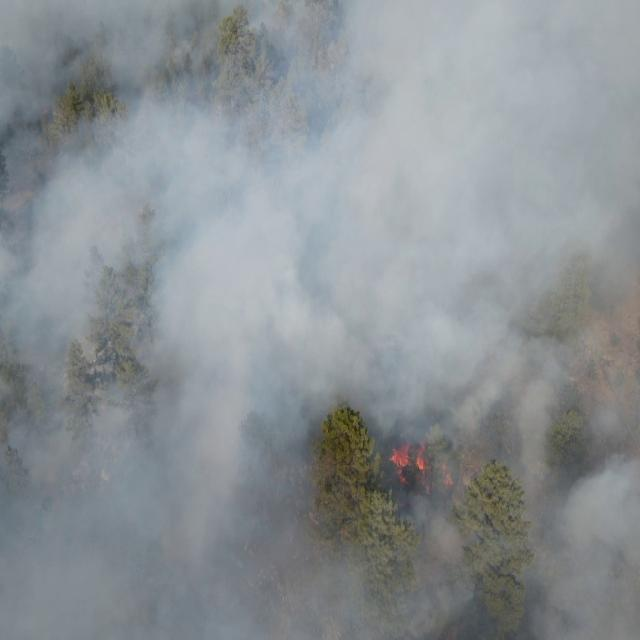fire: (390, 441, 436, 497), (441, 458, 457, 492), (39, 104, 53, 120)
smoke: (0, 0, 640, 640)
